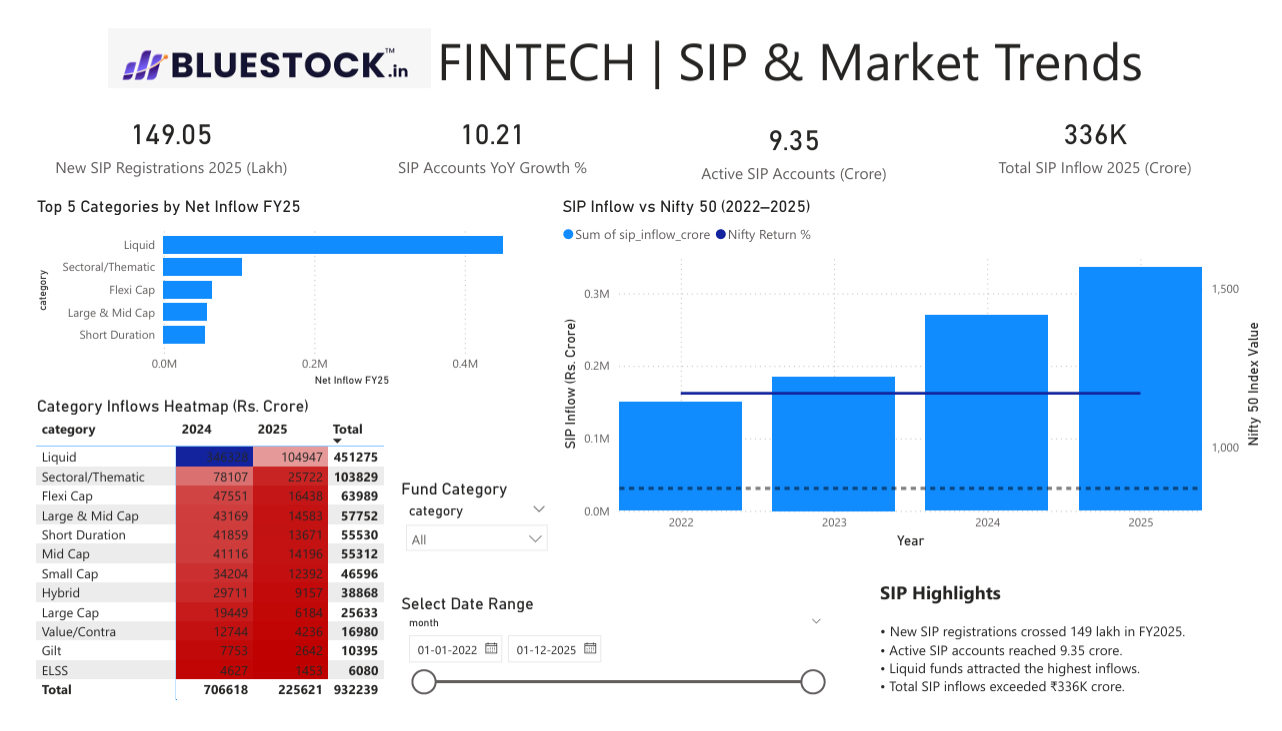

Layout of this report page (visuals, bound fields, positions):
{"tool":"powerbi","page":{"name":"SIP & Market Trends","canvas":[1280,720],"ordinal":3},"visuals":[{"type":"textbox","box":[10.3,0,1269.7,86.4],"z":0},{"type":"lineClusteredColumnComboChart","title":"SIP Inflow vs Nifty 50 (2022–2025)","fields":{"Y":["Sum(clean_monthly_sip_inflows.sip_inflow_crore)"],"Category":["clean_monthly_sip_inflows.Year"],"Y2":["clean_benchmark_indices.Nifty Return %"]},"box":[551.2,182.6,729.1,368.6],"z":1000},{"type":"pivotTable","title":"Category Inflows Heatmap (Rs. Crore)","fields":{"Rows":["clean_category_inflows.category"],"Values":["Sum(clean_category_inflows.net_inflow_crore)"],"Columns":["clean_category_inflows.month.Variation.Date Hierarchy.Year","clean_category_inflows.month.Variation.Date Hierarchy.Quarter","clean_category_inflows.month.Variation.Date Hierarchy.Month","clean_category_inflows.month.Variation.Date Hierarchy.Day"]},"box":[10,388.8,398.8,331.2],"z":2000},{"type":"clusteredBarChart","title":"Top 5 Categories by Net Inflow FY25","fields":{"Category":["clean_category_inflows.category"],"Y":["clean_category_inflows.Net Inflow FY25"]},"box":[9.6,182.5,542,201.7],"z":3000},{"type":"card","fields":{"Values":["clean_monthly_sip_inflows.Latest SIP Accounts"]},"box":[640,85.7,308.6,97.1],"z":4000},{"type":"card","fields":{"Values":["clean_monthly_sip_inflows.SIP Accounts YoY Growth"]},"box":[307.1,72.9,354.3,110],"z":5000},{"type":"card","fields":{"Values":["clean_monthly_sip_inflows.Total SIP Inflow 2025"]},"box":[928.6,72.9,351.4,110],"z":6000},{"type":"card","fields":{"Values":["clean_monthly_sip_inflows.New SIP Registrations 2025"]},"box":[0,72.9,307.1,110],"z":7000},{"type":"slicer","title":"Select Date Range","fields":{"Values":["clean_monthly_sip_inflows.month"]},"box":[385,592.5,450,127.5],"z":8000},{"type":"slicer","title":"Fund Category","fields":{"Values":["clean_category_inflows.category"]},"box":[385,475,166.2,98.8],"z":9000},{"type":"image","box":[88.8,10,332.5,62.5],"z":10000},{"type":"textbox","box":[877.5,573.8,381.2,146.2],"z":11000}]}

Visuals, with their boxes in screenshot pixels (x1, y1, x2, y2), scaled from the page's 1280x720 canvas onto the 1282x731 screenshot:
textbox: detection(10, 0, 1281, 88)
"SIP Inflow vs Nifty 50 (2022–2025)" lineClusteredColumnComboChart: detection(552, 185, 1281, 560)
"Category Inflows Heatmap (Rs. Crore)" pivotTable: detection(10, 395, 409, 730)
"Top 5 Categories by Net Inflow FY25" clusteredBarChart: detection(10, 185, 552, 390)
card - clean_monthly_sip_inflows.Latest SIP Accounts: detection(641, 87, 950, 186)
card - clean_monthly_sip_inflows.SIP Accounts YoY Growth: detection(308, 74, 662, 186)
card - clean_monthly_sip_inflows.Total SIP Inflow 2025: detection(930, 74, 1281, 186)
card - clean_monthly_sip_inflows.New SIP Registrations 2025: detection(0, 74, 308, 186)
"Select Date Range" slicer: detection(386, 602, 836, 730)
"Fund Category" slicer: detection(386, 482, 552, 583)
image: detection(89, 10, 422, 74)
textbox: detection(879, 583, 1261, 730)
